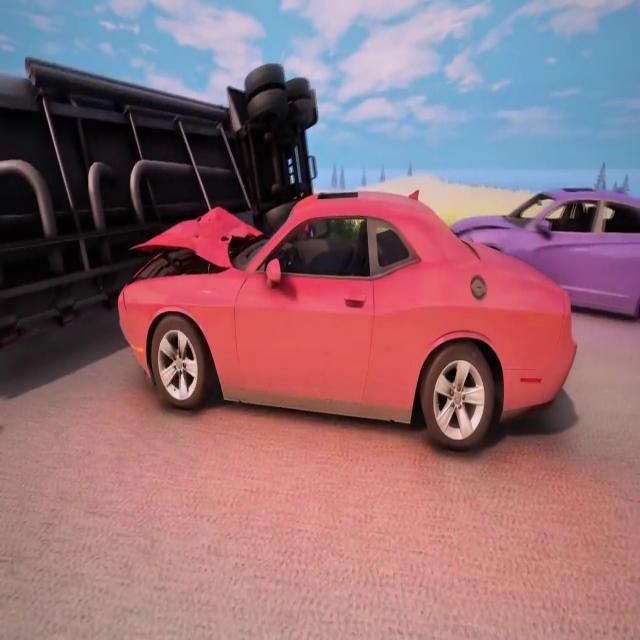accident: (0, 51, 586, 457)
